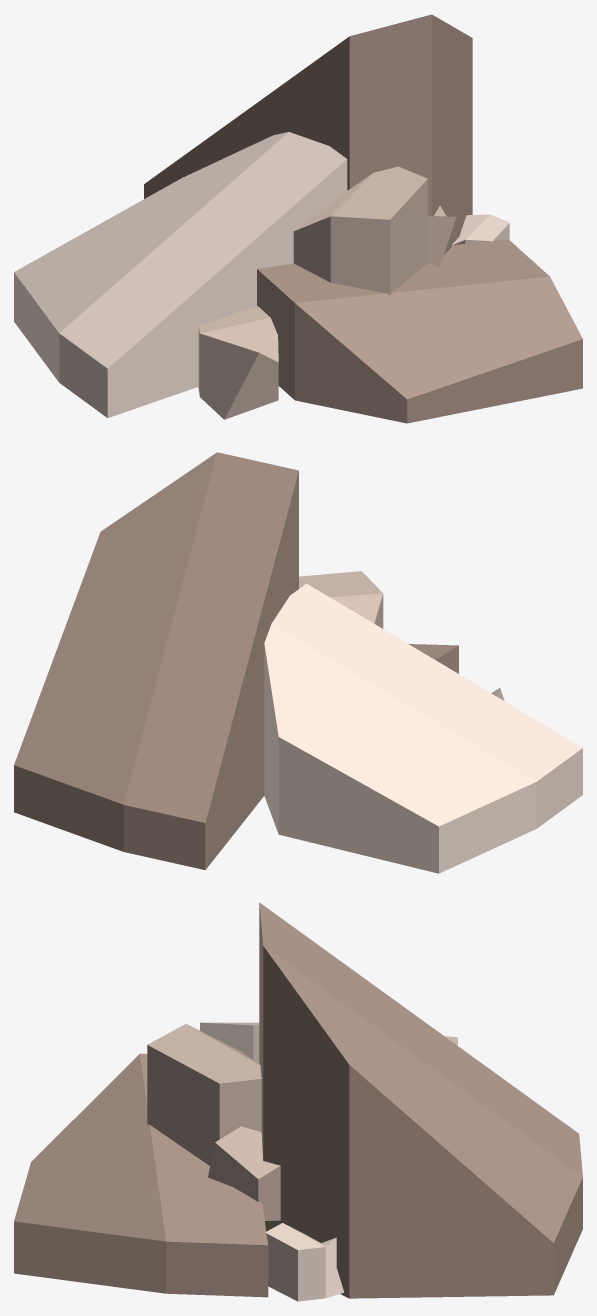
The model's file is rock-type5-02-sand.glb.
3 views of the same model, one above another, from view 1: azimuth 30°, elevation 25°; view 2: azimuth 150°, elevation 25°; view 3: azimuth 270°, elevation 25° (orthographic). The views are drawn at different scales.
Parts seen in each view (by area): view 1: Rock_Type5_02_mesh; view 2: Rock_Type5_02_mesh; view 3: Rock_Type5_02_mesh.
Part boxes in pixels (bbox=[...]): Rock_Type5_02_mesh: bbox=[14, 14, 582, 423]; Rock_Type5_02_mesh: bbox=[14, 452, 582, 873]; Rock_Type5_02_mesh: bbox=[14, 902, 582, 1301].
Bounding box in the file's own units: 2.26 × 1.44 × 2.36.
Materials: 1 (1 with a texture image).
